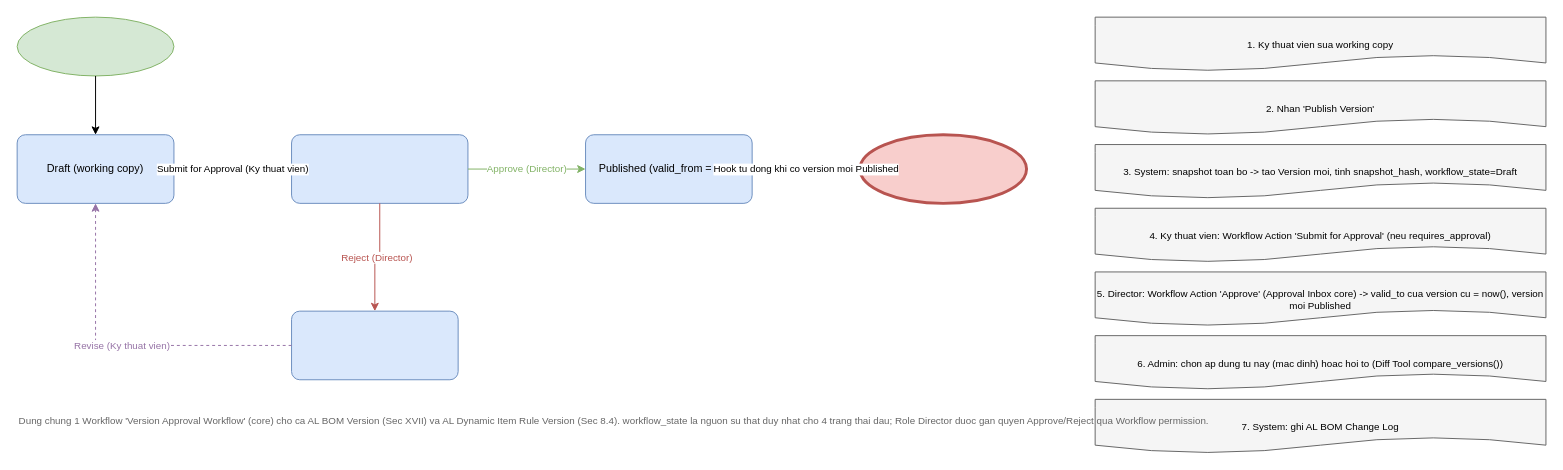
Some shapes in this 1563 by 470 pixel diagram are drawn without their labels. Each missing label, with the box of its shape:
Deprecated (valid_to = now, tu dong): (858, 133, 1028, 204)
Pending Approval: (291, 134, 468, 203)
Rejected: (291, 310, 458, 380)
Sua threshold_rows / lookup_rows (working copy): (16, 16, 174, 76)
